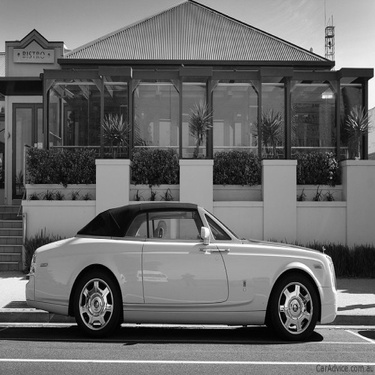car: (2, 186, 335, 330)
